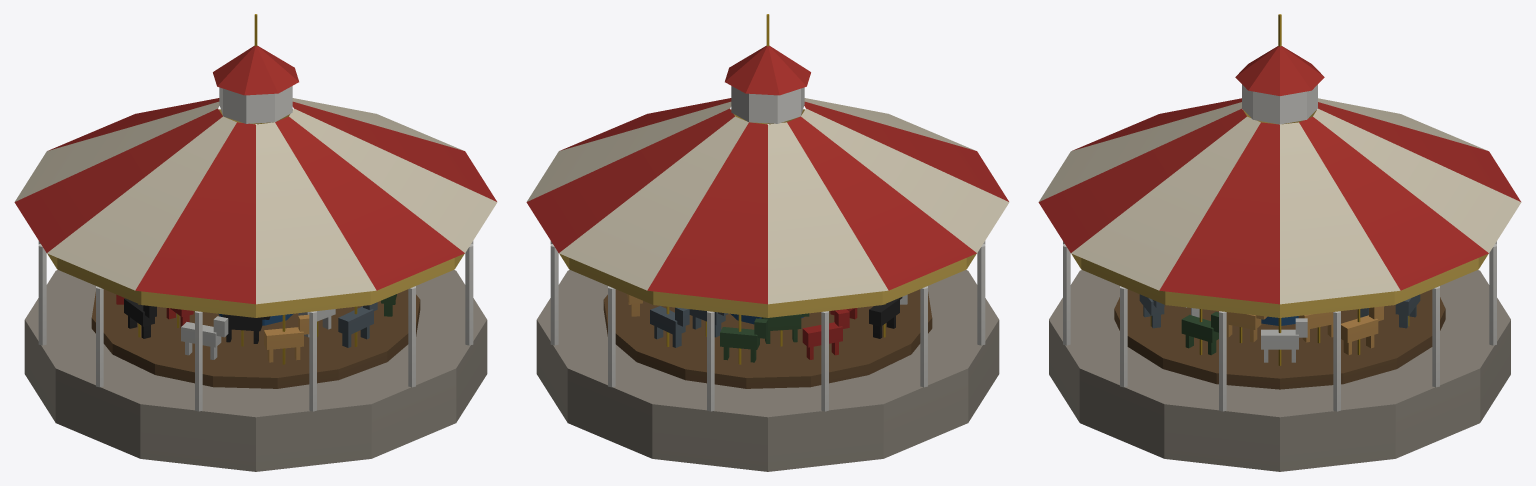
File: niabi_carousel.glb
3 views of the same model, side by side, from view 1: azimuth 30°, elevation 25°; view 2: azimuth 150°, elevation 25°; view 3: azimuth 270°, elevation 25° (orthographic).
Parts seen in each view (by area): view 1: niabi_carousel_lod0; view 2: niabi_carousel_lod0; view 3: niabi_carousel_lod0.
Boxes of the visible parts, x1,y1,x2,y2 form: niabi_carousel_lod0: [14, 14, 497, 471]; niabi_carousel_lod0: [526, 14, 1009, 471]; niabi_carousel_lod0: [1038, 14, 1521, 471].
Size of what is drawn, in the model's own units: 14 by 11.5 by 14.
